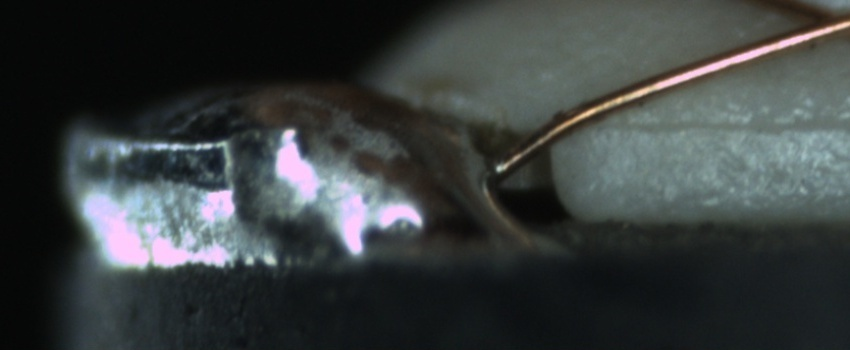CL: (774, 1, 850, 46)
DL: (613, 90, 846, 158)
